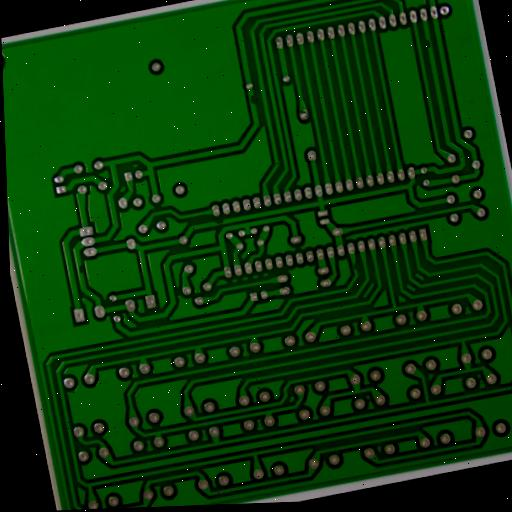mouse_bite: (421, 35, 436, 52), (245, 91, 259, 107), (211, 215, 226, 228), (74, 261, 85, 278), (350, 259, 361, 272)
